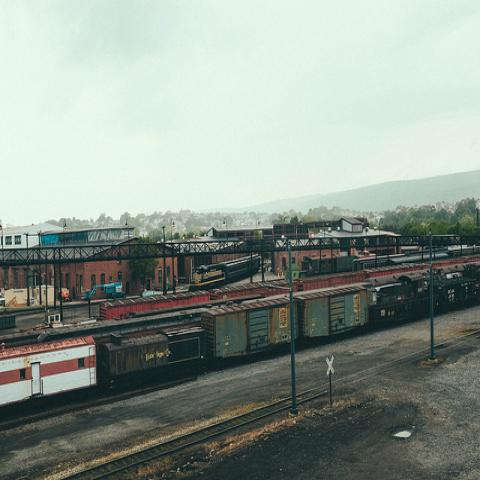car: (0, 294, 5, 304)
